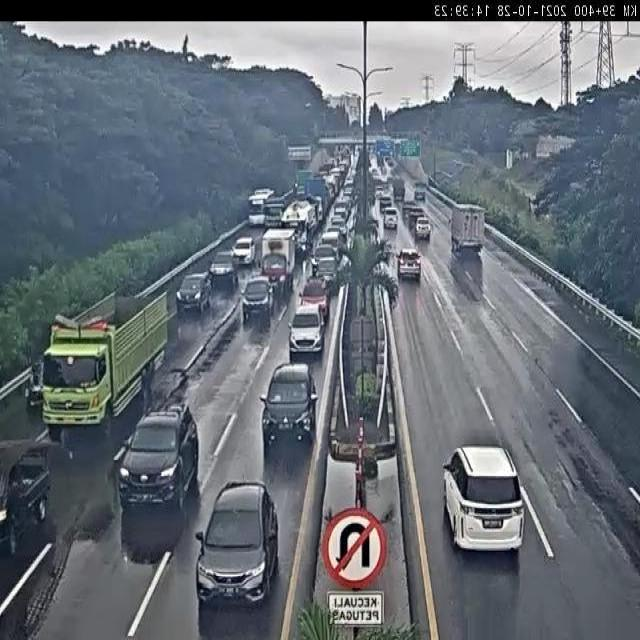Bus: (246, 187, 275, 228)
Car: (193, 479, 281, 610), (115, 400, 198, 513), (443, 444, 525, 552), (259, 362, 319, 452), (288, 299, 326, 359), (240, 274, 276, 330), (175, 271, 213, 317), (298, 274, 332, 319), (208, 250, 241, 284), (395, 248, 423, 282), (315, 255, 340, 292), (309, 242, 337, 274), (320, 230, 342, 262), (232, 236, 256, 265), (324, 226, 344, 249), (414, 215, 432, 240), (409, 206, 425, 226), (330, 217, 347, 235), (401, 200, 417, 218), (379, 195, 392, 212), (374, 183, 386, 198)
Truck: (40, 288, 172, 436), (0, 437, 52, 553), (257, 228, 297, 296), (280, 200, 316, 259), (447, 201, 485, 255), (265, 189, 295, 231), (304, 177, 327, 224), (293, 169, 312, 200), (392, 176, 406, 200), (414, 181, 426, 200)
Van: (383, 207, 399, 230)
